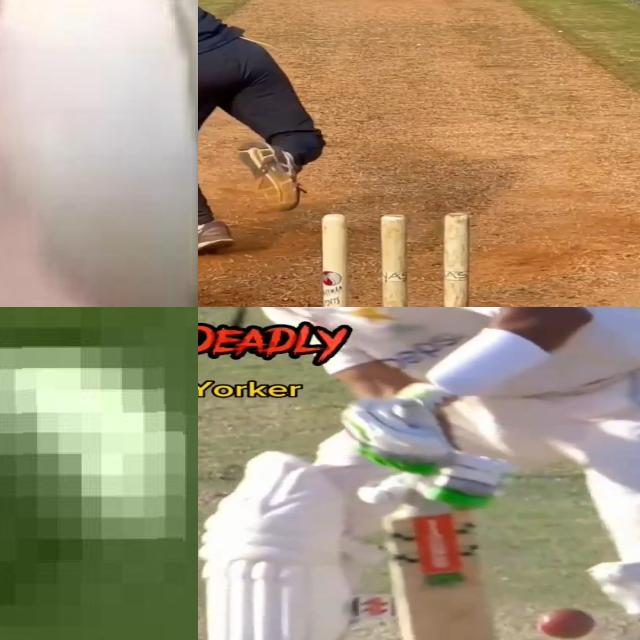Cricket ball: (0, 0, 198, 307), (0, 338, 183, 562), (537, 605, 597, 640)
Stumps: (318, 211, 475, 307)
